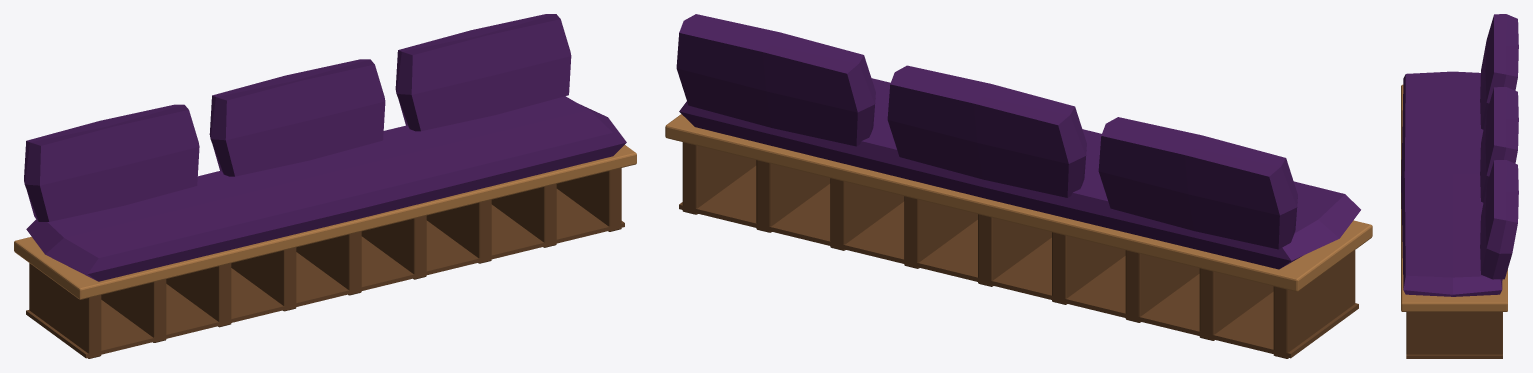
The model's file is terrace_bench_purple.fbx.
3 views of the same model, side by side, from view 1: azimuth 30°, elevation 25°; view 2: azimuth 150°, elevation 25°; view 3: azimuth 270°, elevation 25° (orthographic). The views are drawn at different scales.
Parts seen in each view (by area): view 1: terrace_bench_purple_LOD0; view 2: terrace_bench_purple_LOD0; view 3: terrace_bench_purple_LOD0.
Boxes of the visible parts, box(x1,y1,x2,y2) form: terrace_bench_purple_LOD0: box(14, 14, 636, 358); terrace_bench_purple_LOD0: box(665, 14, 1372, 358); terrace_bench_purple_LOD0: box(1401, 14, 1518, 358).
Size of what is drawn, in the model's own units: 3.03 by 0.8939 by 0.6823.
Materials: 1 (1 with a texture image).
